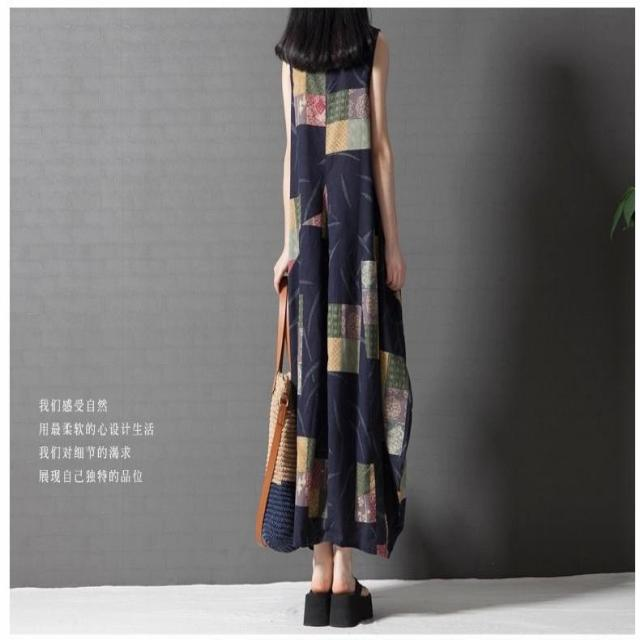vest dress: (285, 26, 410, 556)
